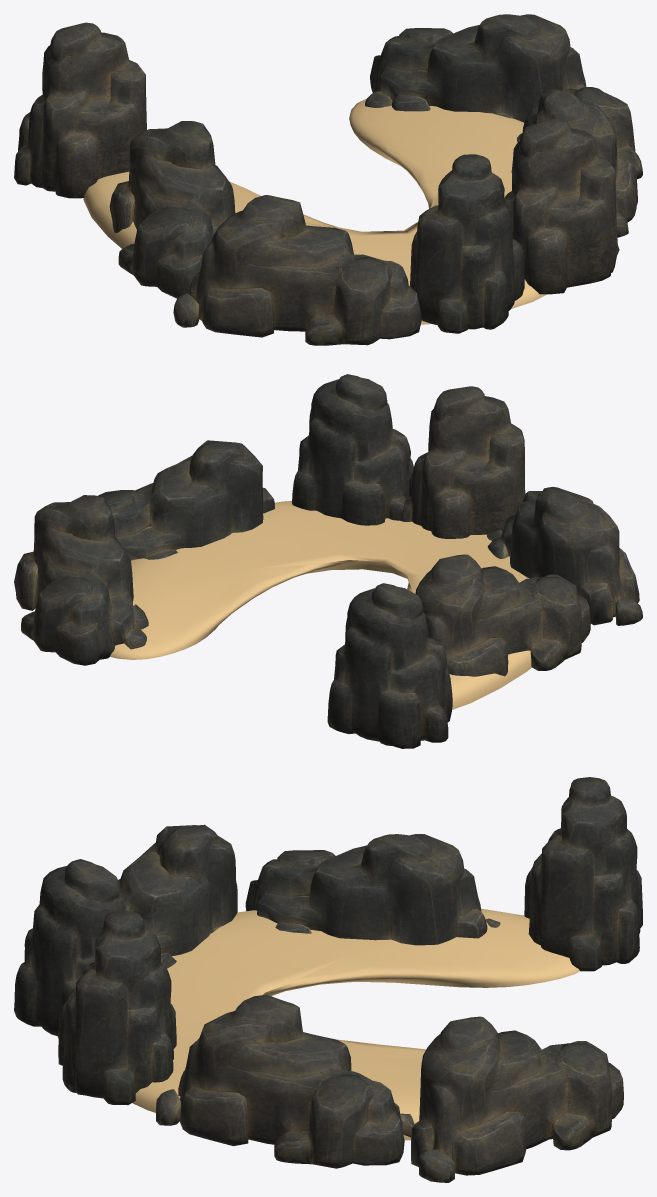
The picture shows the model from 3 angles, top to bottom: view 1: azimuth 30°, elevation 25°; view 2: azimuth 150°, elevation 25°; view 3: azimuth 270°, elevation 25°; orthographic projection. The views are drawn at different scales.
Visible parts, largest first — view 1: cliff2, cliff2_cliff1_0.002, cliff3_cliff2_0.001, cliff3, cliff3_cliff2_0.002, cliff2_cliff1_0.001, Cube, cliff2_cliff1_0.003; view 2: Cube, cliff2_cliff1_0.002, cliff3_cliff2_0.001, cliff2_cliff1_0.001, cliff3_cliff2_0.002, cliff3, cliff2_cliff1_0.003, cliff2; view 3: Cube, cliff2_cliff1_0.003, cliff2_cliff1_0.002, cliff2_cliff1_0.001, cliff3, cliff3_cliff2_0.001, cliff2, cliff3_cliff2_0.002.
Part boxes in pixels (box(x1,y1,x2,y2)): cliff2: box(173, 195, 421, 345); cliff2_cliff1_0.002: box(365, 14, 586, 122); cliff3_cliff2_0.001: box(14, 22, 146, 198); cliff3: box(504, 118, 619, 294); cliff3_cliff2_0.002: box(410, 154, 524, 333); cliff2_cliff1_0.001: box(109, 121, 235, 298); Cube: box(83, 99, 546, 324); cliff2_cliff1_0.003: box(517, 87, 642, 237); Cube: box(110, 501, 531, 709); cliff2_cliff1_0.002: box(14, 495, 148, 665); cliff3_cliff2_0.001: box(327, 583, 452, 748); cliff2_cliff1_0.001: box(415, 554, 590, 676); cliff3_cliff2_0.002: box(400, 386, 525, 538); cliff3: box(292, 374, 413, 525); cliff2_cliff1_0.003: box(98, 440, 274, 560); cliff2: box(487, 487, 642, 625); Cube: box(58, 908, 579, 1140); cliff2_cliff1_0.003: box(156, 994, 414, 1168); cliff2_cliff1_0.002: box(411, 1016, 623, 1182); cliff2_cliff1_0.001: box(245, 834, 500, 945); cliff3: box(58, 910, 176, 1105); cliff3_cliff2_0.001: box(524, 777, 642, 971); cliff2: box(118, 824, 237, 968); cliff3_cliff2_0.002: box(14, 859, 125, 1036).
Size of the model in its own units: 114 by 29.7 by 106.
Materials: 3 (2 with a texture image).
